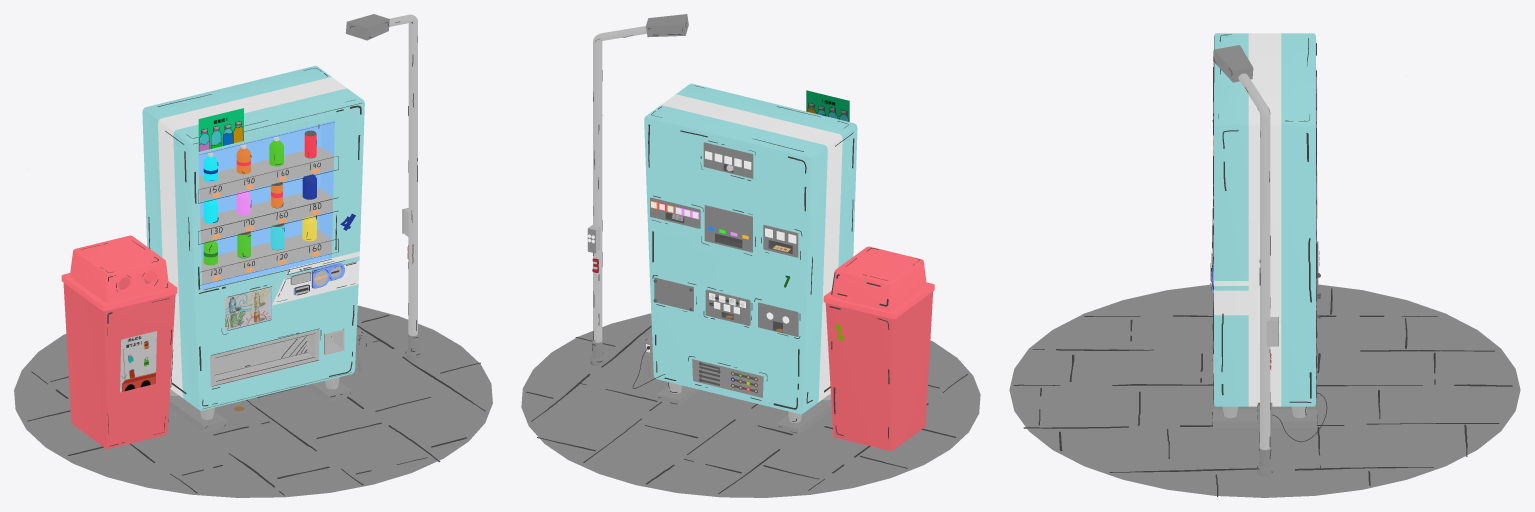
File: vending.glb
3 renders of one model, left to right at view 1: azimuth 30°, elevation 25°; view 2: azimuth 150°, elevation 25°; view 3: azimuth 270°, elevation 25°, orthographic. The views are drawn at different scales.
Parts seen in each view (by area): view 1: 本体, 地面, ごみ箱下, 棚, ごみ箱上, 街路灯, outline大, outline中, ごみ箱張り紙, 広告, 自販機広告, 土台 (+1 smaller); view 2: 本体, 地面, ごみ箱下, ごみ箱上, 街路灯, outline中, 裏問題４, outline大, 土台, 裏問題６, 裏問題１, 裏問題２ (+4 smaller); view 3: 地面, 本体, 街路灯, outline大, 土台, outline中.
Boxes of the visible parts, x1,y1,x2,y2 form: 本体: (142,65,364,410); 地面: (14,305,492,497); ごみ箱下: (63,277,175,449); 棚: (199,146,333,284); ごみ箱上: (61,235,177,311); 街路灯: (345,14,420,360); outline大: (27,103,485,495); outline中: (81,21,420,446); ごみ箱張り紙: (120,331,156,392); 広告: (198,108,243,151); 自販機広告: (225,286,270,330); 土台: (169,380,351,432); 本体: (644,83,857,414); 地面: (521,313,980,497); ごみ箱下: (825,291,933,451); ごみ箱上: (823,246,934,318); 街路灯: (590,14,688,366); outline中: (590,22,919,438); 裏問題４: (704,205,752,252); outline大: (526,325,967,493); 土台: (656,385,831,434); 裏問題６: (703,142,753,178); 裏問題１: (705,289,750,325); 裏問題２: (758,302,798,336); 地面: (1009,284,1520,497); 本体: (1214,33,1315,406); 街路灯: (1213,45,1272,476); outline大: (1013,36,1512,496); 土台: (1213,345,1316,427); outline中: (1210,34,1317,472).
Bounding box in the file's own units: 16 × 13.49 × 16.
70 materials, 8 textured.
